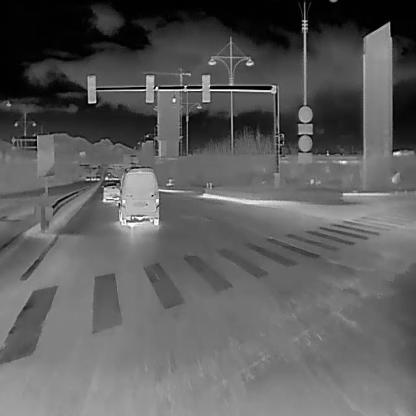car: (118, 165, 159, 226), (101, 180, 120, 203)
